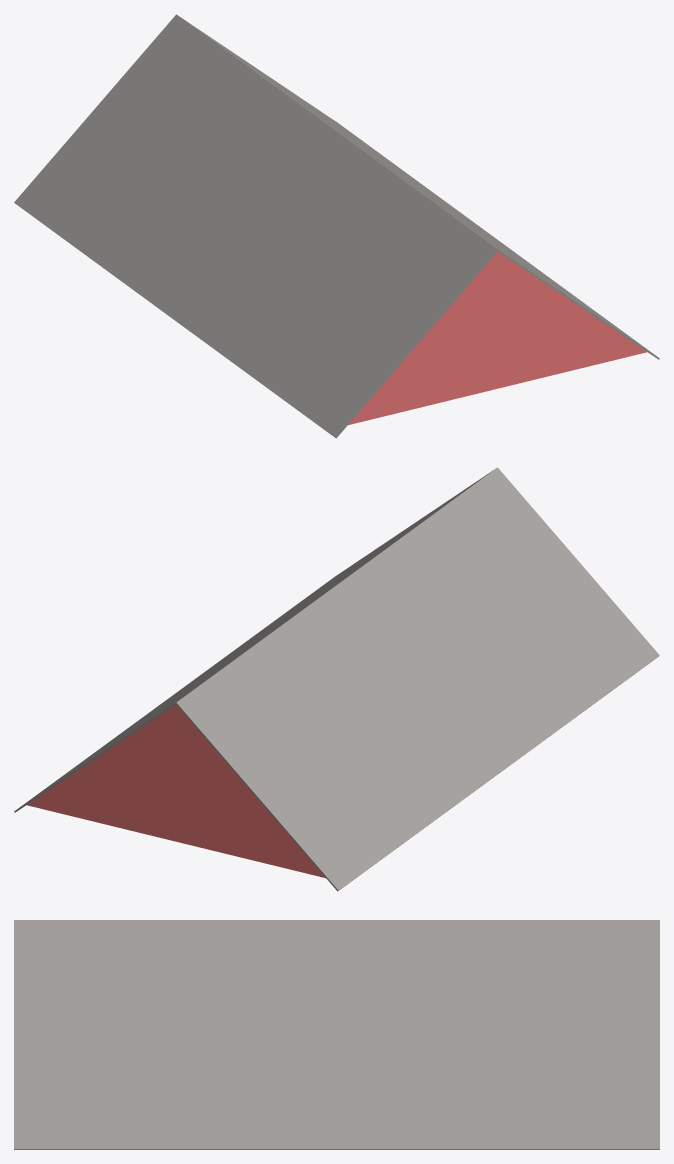
File: BackRoof.fbx
The picture shows the model from 3 angles, top to bottom: view 1: azimuth 30°, elevation 25°; view 2: azimuth 150°, elevation 25°; view 3: azimuth 270°, elevation 25°; orthographic projection.
Parts seen in each view (by area): view 1: BackRoof; view 2: BackRoof; view 3: BackRoof.
Boxes of the visible parts, bbox=[...] form: BackRoof: bbox=[14, 14, 659, 438]; BackRoof: bbox=[14, 467, 659, 891]; BackRoof: bbox=[14, 920, 659, 1149].
Size of the model in its own units: 1680 by 741 by 2880.
